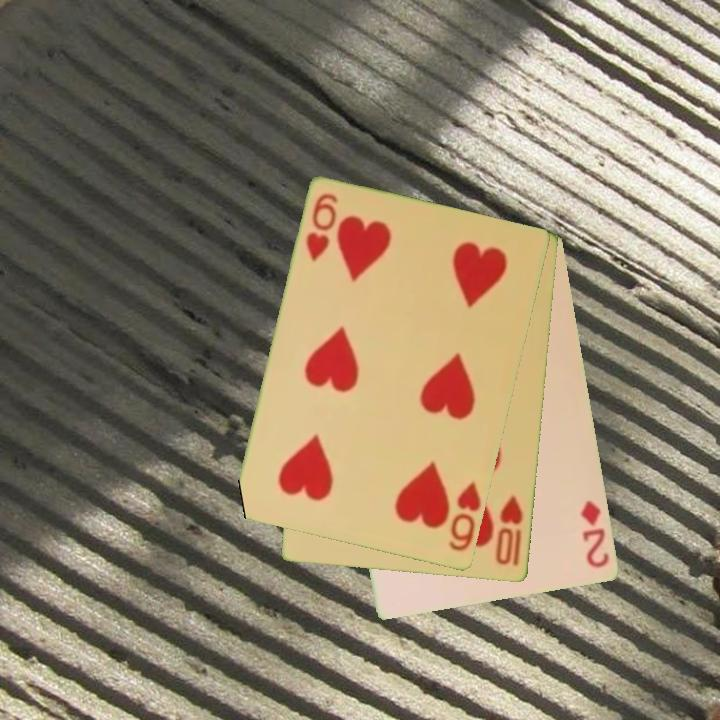10h: (492, 492, 526, 569)
2d: (577, 497, 613, 572)
6h: (445, 479, 484, 555), (302, 190, 341, 265)
